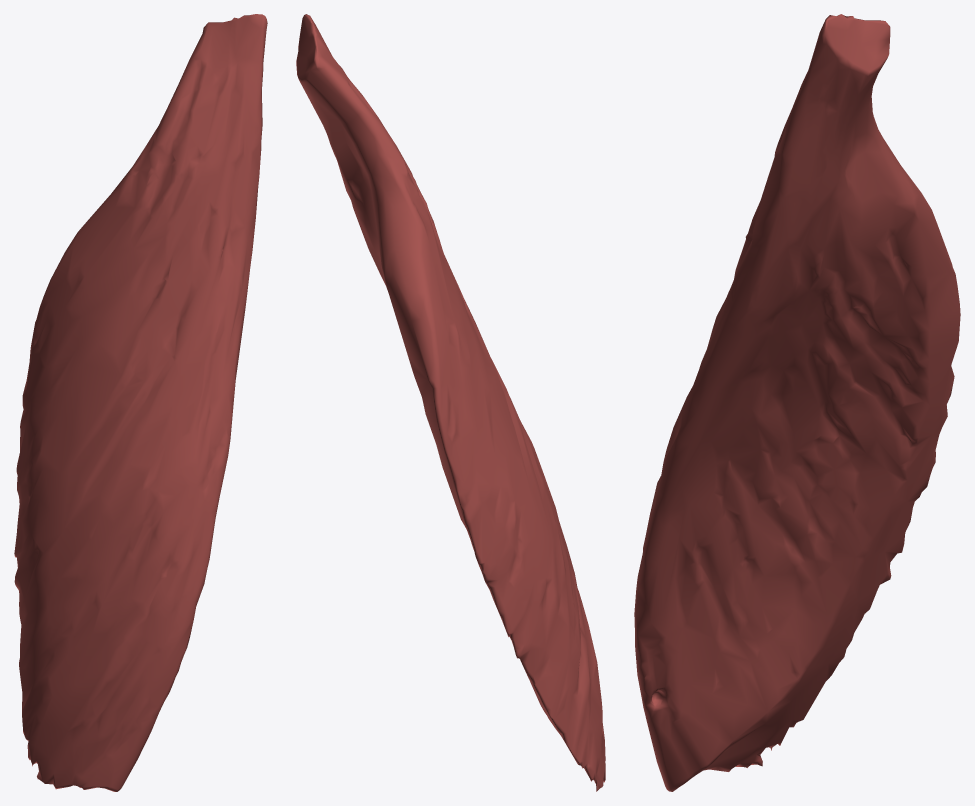
Rendered from FMA37401.glb.
The picture shows the model from 3 angles, left to right: view 1: azimuth 30°, elevation 25°; view 2: azimuth 150°, elevation 25°; view 3: azimuth 270°, elevation 25°; orthographic projection. The views are drawn at different scales.
Visible parts, largest first — view 1: FMA37401; view 2: FMA37401; view 3: FMA37401.
Boxes of the visible parts, x1=… form: FMA37401: x1=14, y1=14, x2=267, y2=791; FMA37401: x1=296, y1=14, x2=605, y2=791; FMA37401: x1=634, y1=14, x2=960, y2=791.
Bounding box in the file's own units: 0.0179 × 0.046 × 0.0149.
